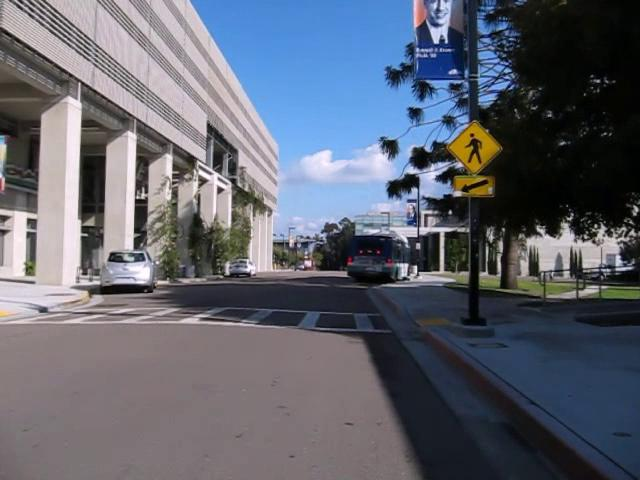pedestrianCrossing: (446, 119, 503, 176)
